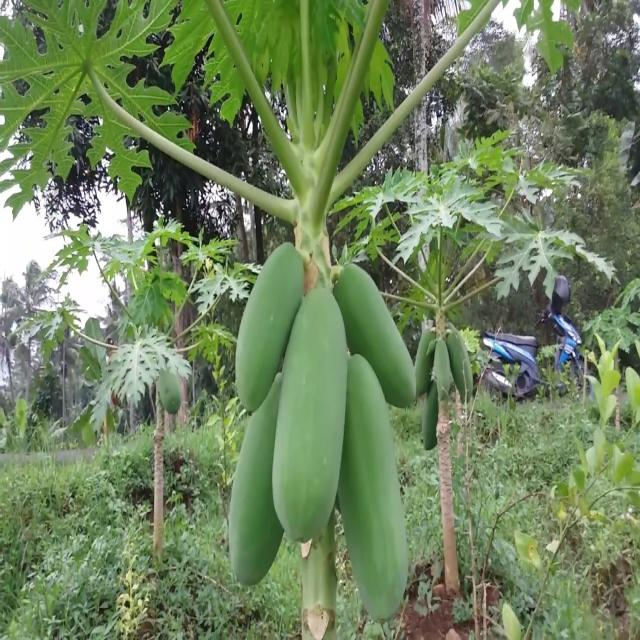Pepaya unrippen: (276, 302, 352, 563), (349, 402, 414, 620), (229, 243, 299, 425), (349, 274, 421, 407), (229, 422, 273, 578), (454, 329, 476, 393), (158, 374, 184, 412), (434, 347, 452, 398)
